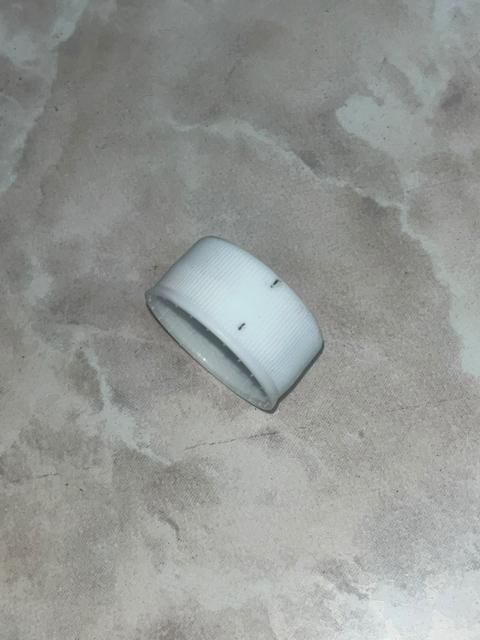HDPE: (122, 207, 353, 447)
